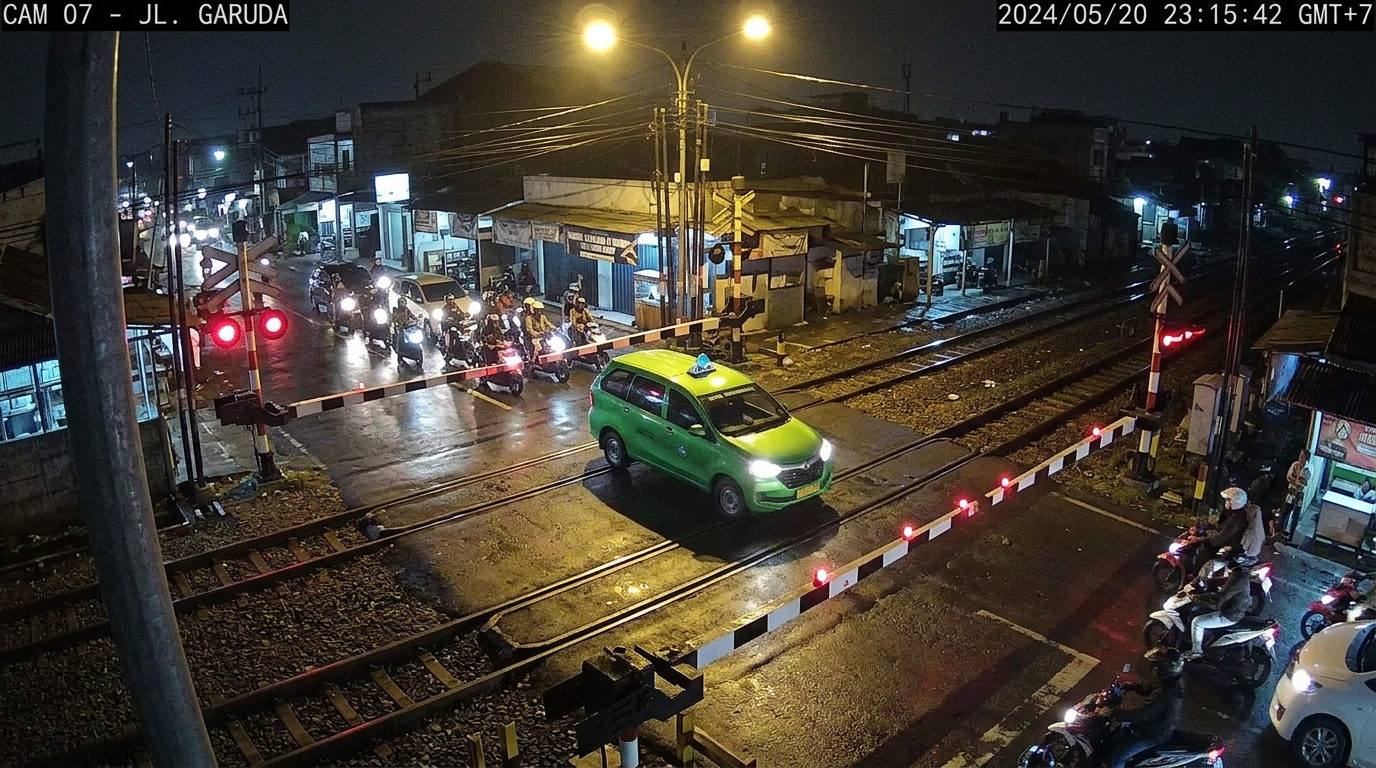barrier_closed: (676, 500, 979, 667), (985, 417, 1135, 504), (301, 366, 499, 414), (535, 320, 720, 362)
obstacle: (587, 351, 827, 512)
